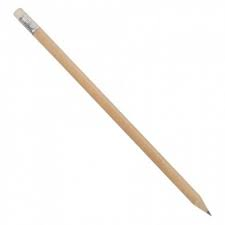Lapiz: (5, 3, 220, 219)
